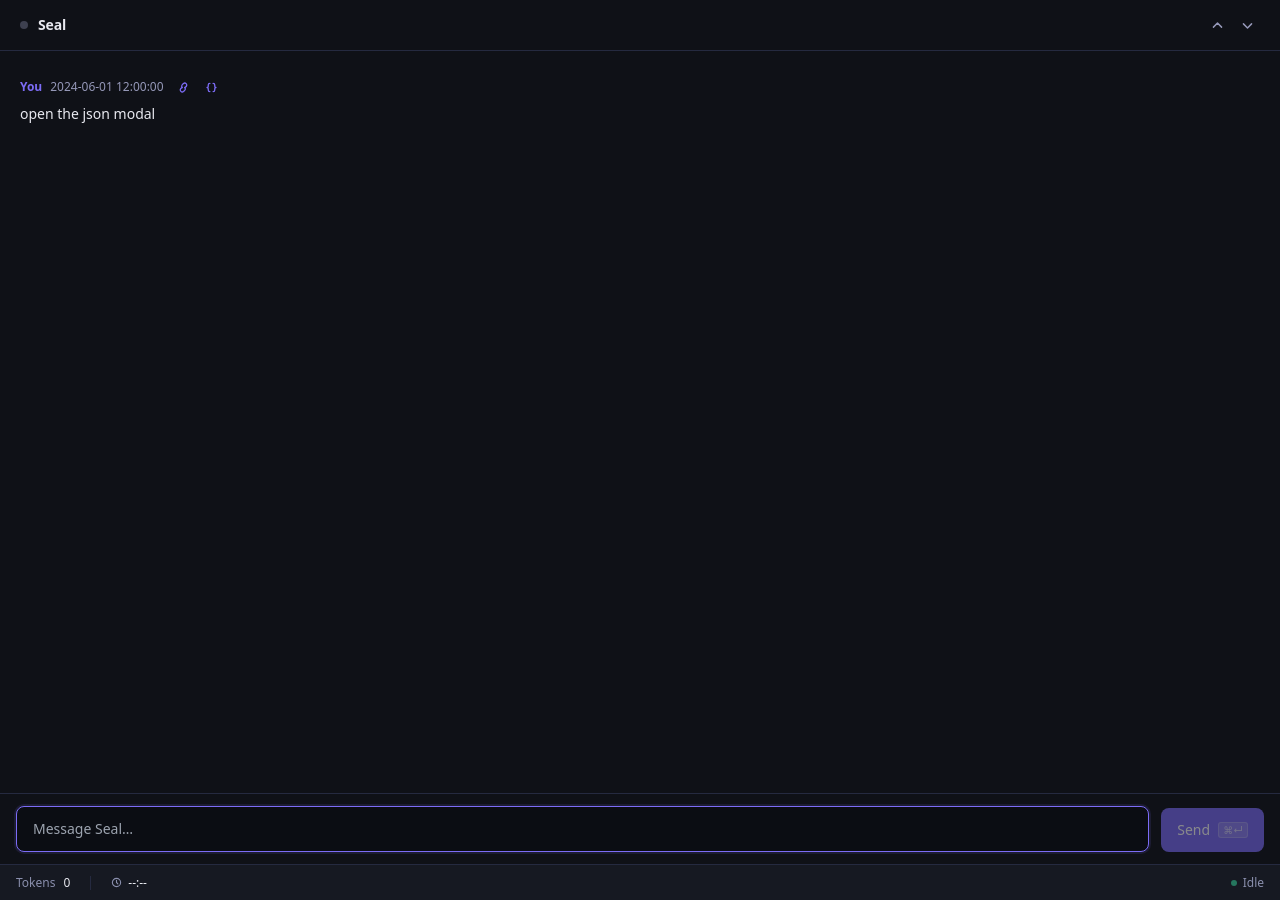
Test case: ChatArea › raw JSON modal toggles open/closed
# Click the "View raw JSON (message)" button.
Click the button named "View raw JSON (message)" at (212, 87), box [200,75,224,99]
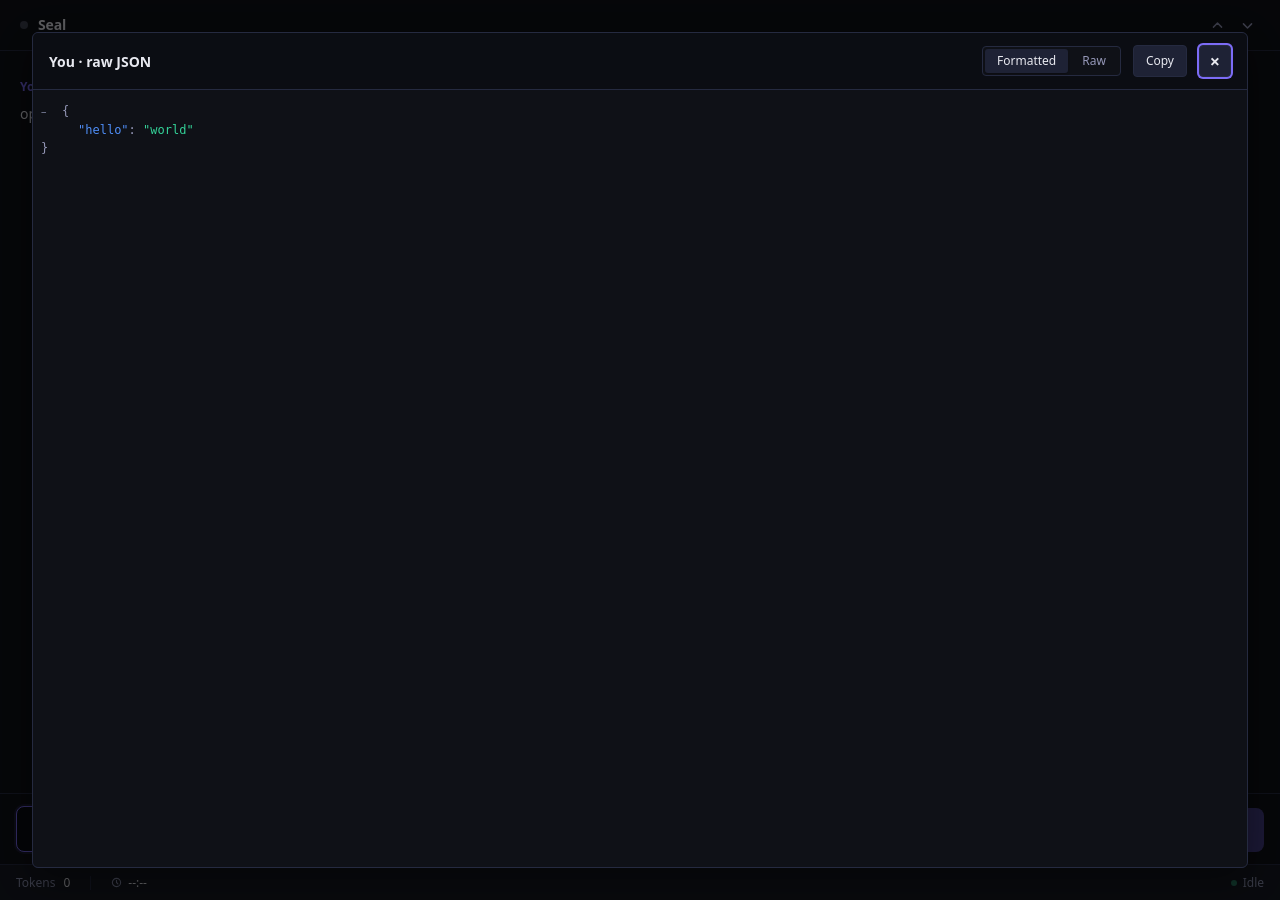
Result: the dialog with test id "raw-json-modal" is shown
Result: the element with test id "raw-json-backdrop" is shown
# Close via the close button.
Click the button named "Close raw JSON view" at (1215, 61), box [1199,45,1231,77]
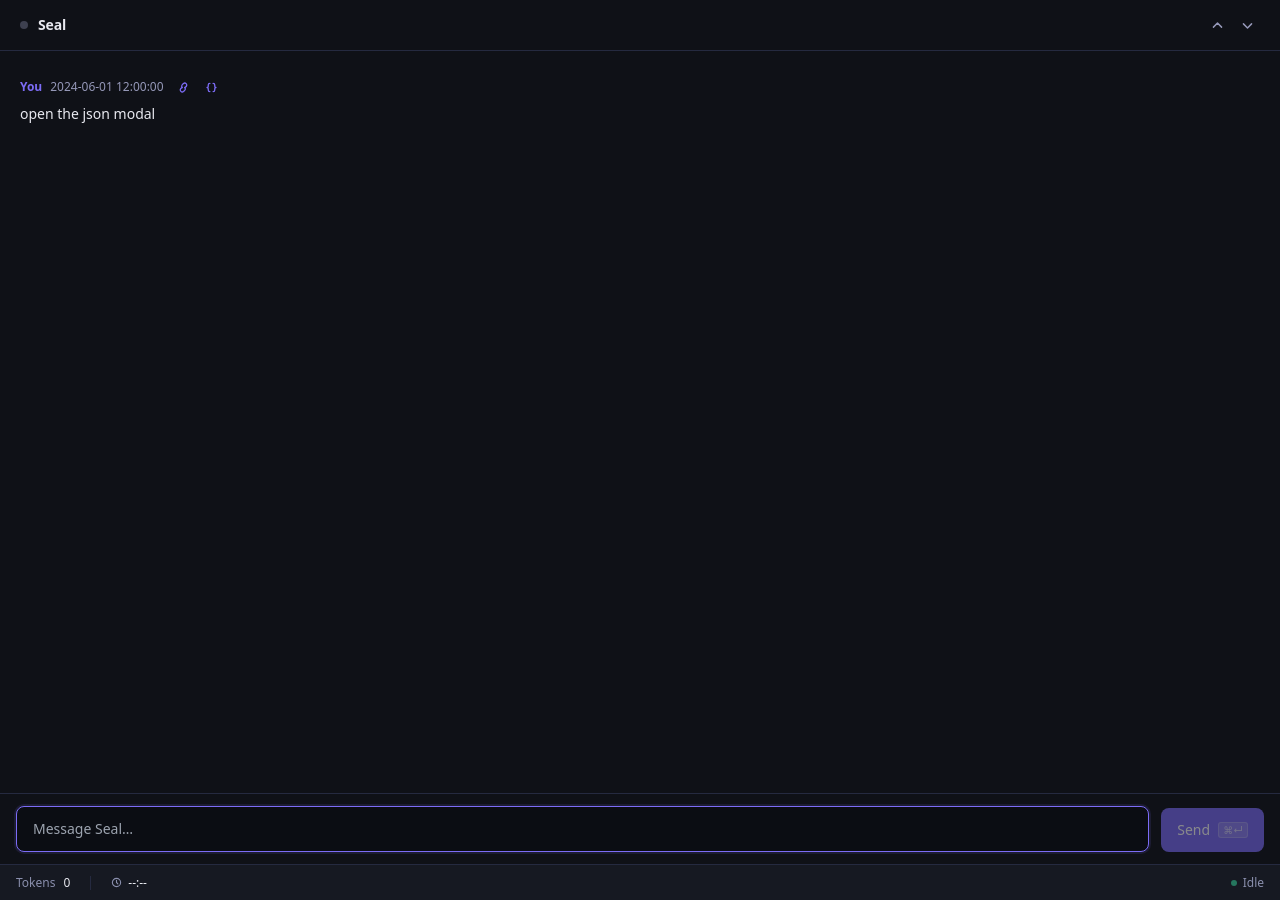
Result: the dialog with test id "raw-json-modal" is gone
